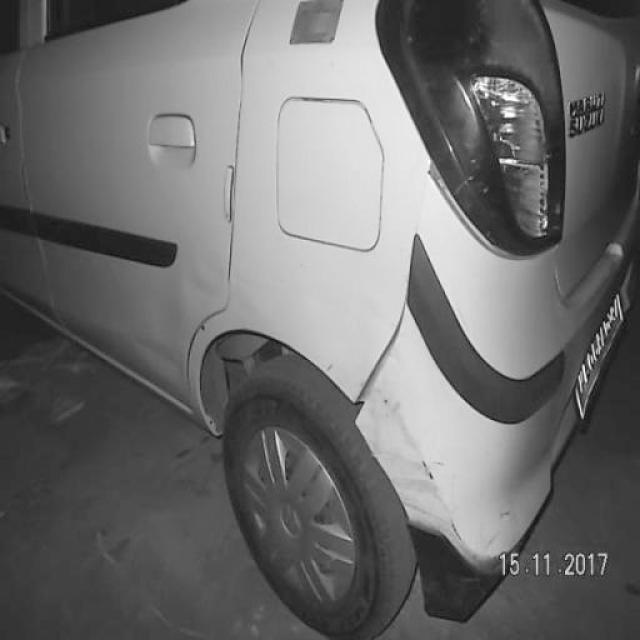car damage: (365, 386, 500, 575), (134, 265, 268, 391), (349, 298, 410, 428)
